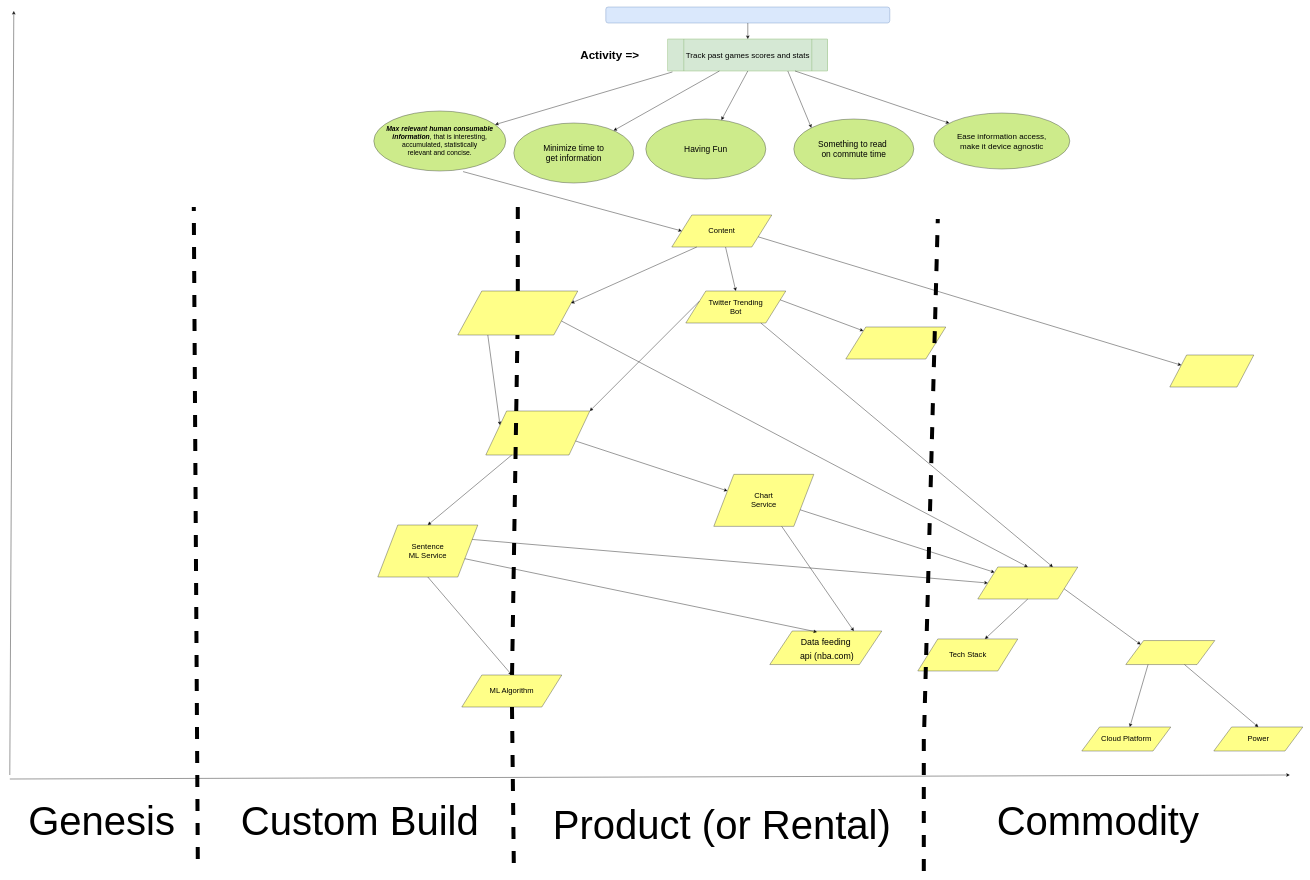
Some shapes in this 1310 by 880 pixel diagram are drawn without their labels. The shapes that lost their labels are listed below. From the top down, each one's centre as x and y in pixels, then its label:
At (747,15): "Sports Fan".
At (517,313): "Web app (getdailyscore.com)".
At (895,343): "Twitter API".
At (1211,371): "Email".
At (537,433): "Content Generator".
At (1027,583): "Web Server".
At (1170,652): "Compute".
